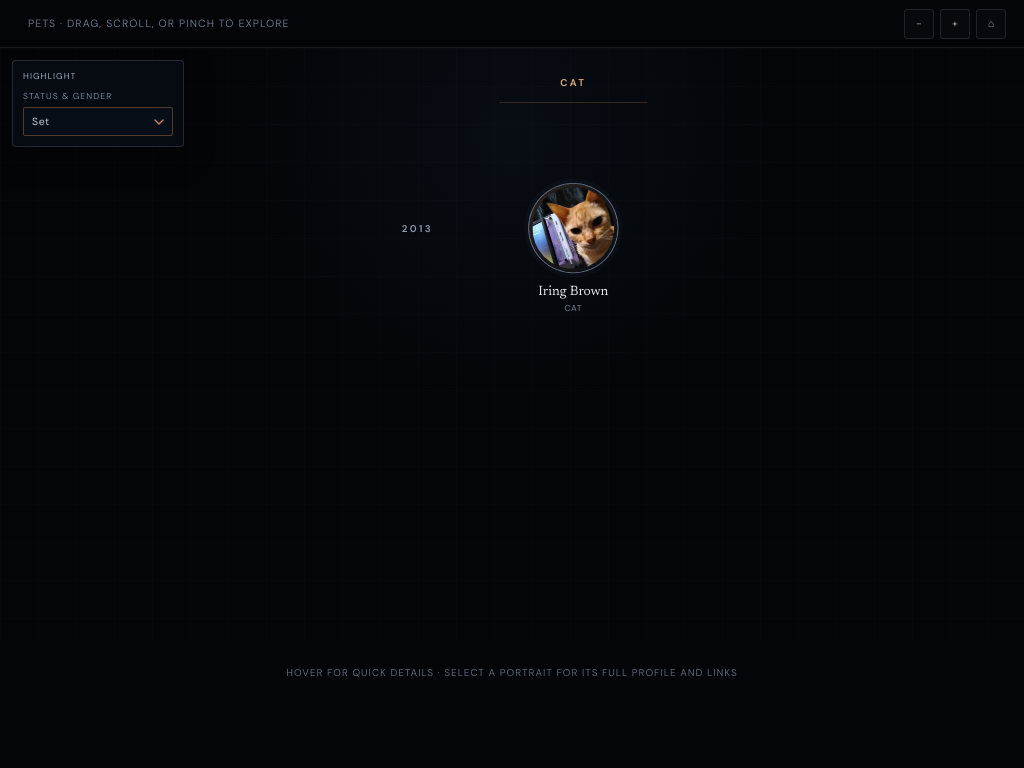
it: LineageGraph details and portraits › shows the protected Iring Brown founder, portrait number, and birth details
This screenshot has width=1024, height=768.
Hover over the button with aria-label "Iring Brown details".
mouse_move(573, 248)  # box [514,183,633,314]
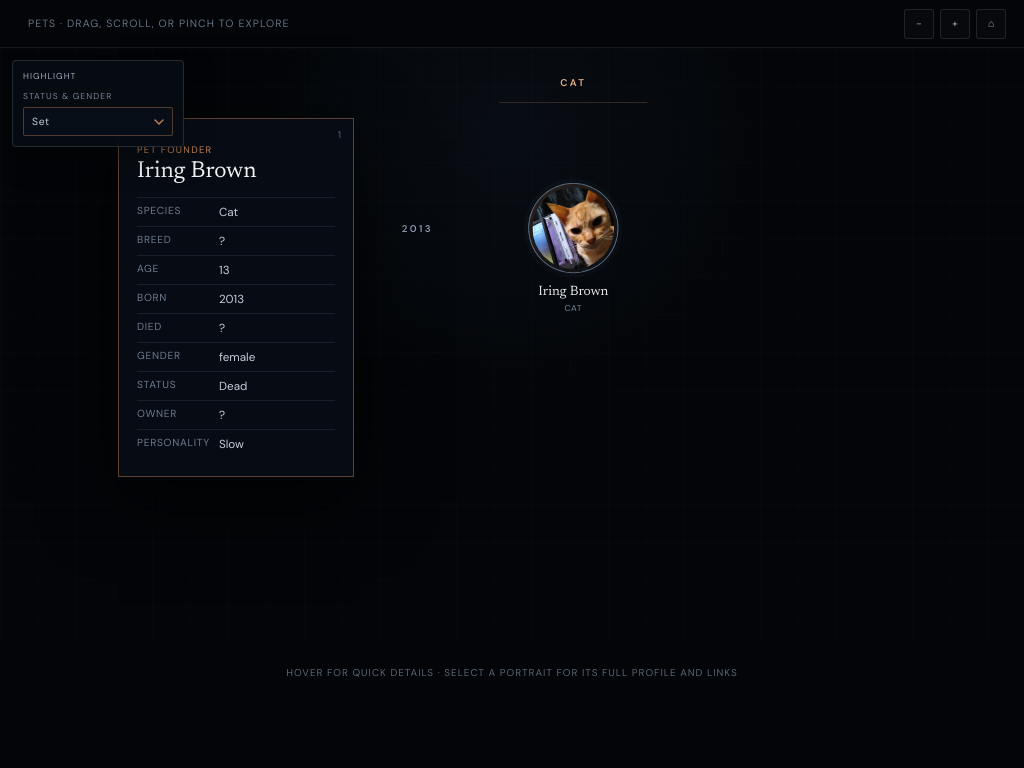
Expected: the tooltip named "Iring Brown details" shows "Died?", [137,320,162,333]
Expected: the text named "Portrait number 1" reads "1", [338,128,342,141]
